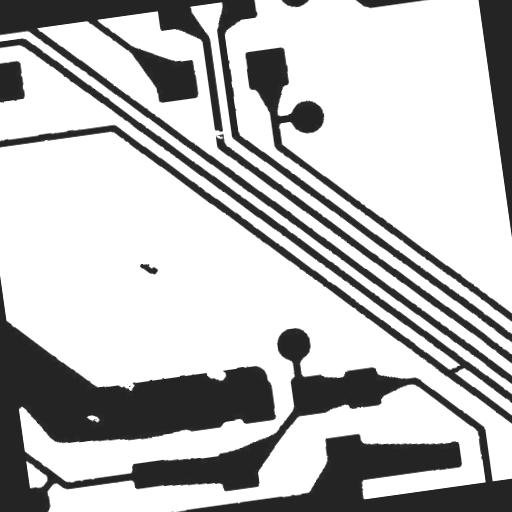copper: (131, 253, 166, 284)
mousebite: (198, 357, 234, 390), (109, 372, 143, 400)
open: (202, 120, 232, 148)
pin-hole: (78, 406, 108, 432)
short: (437, 356, 473, 384)
